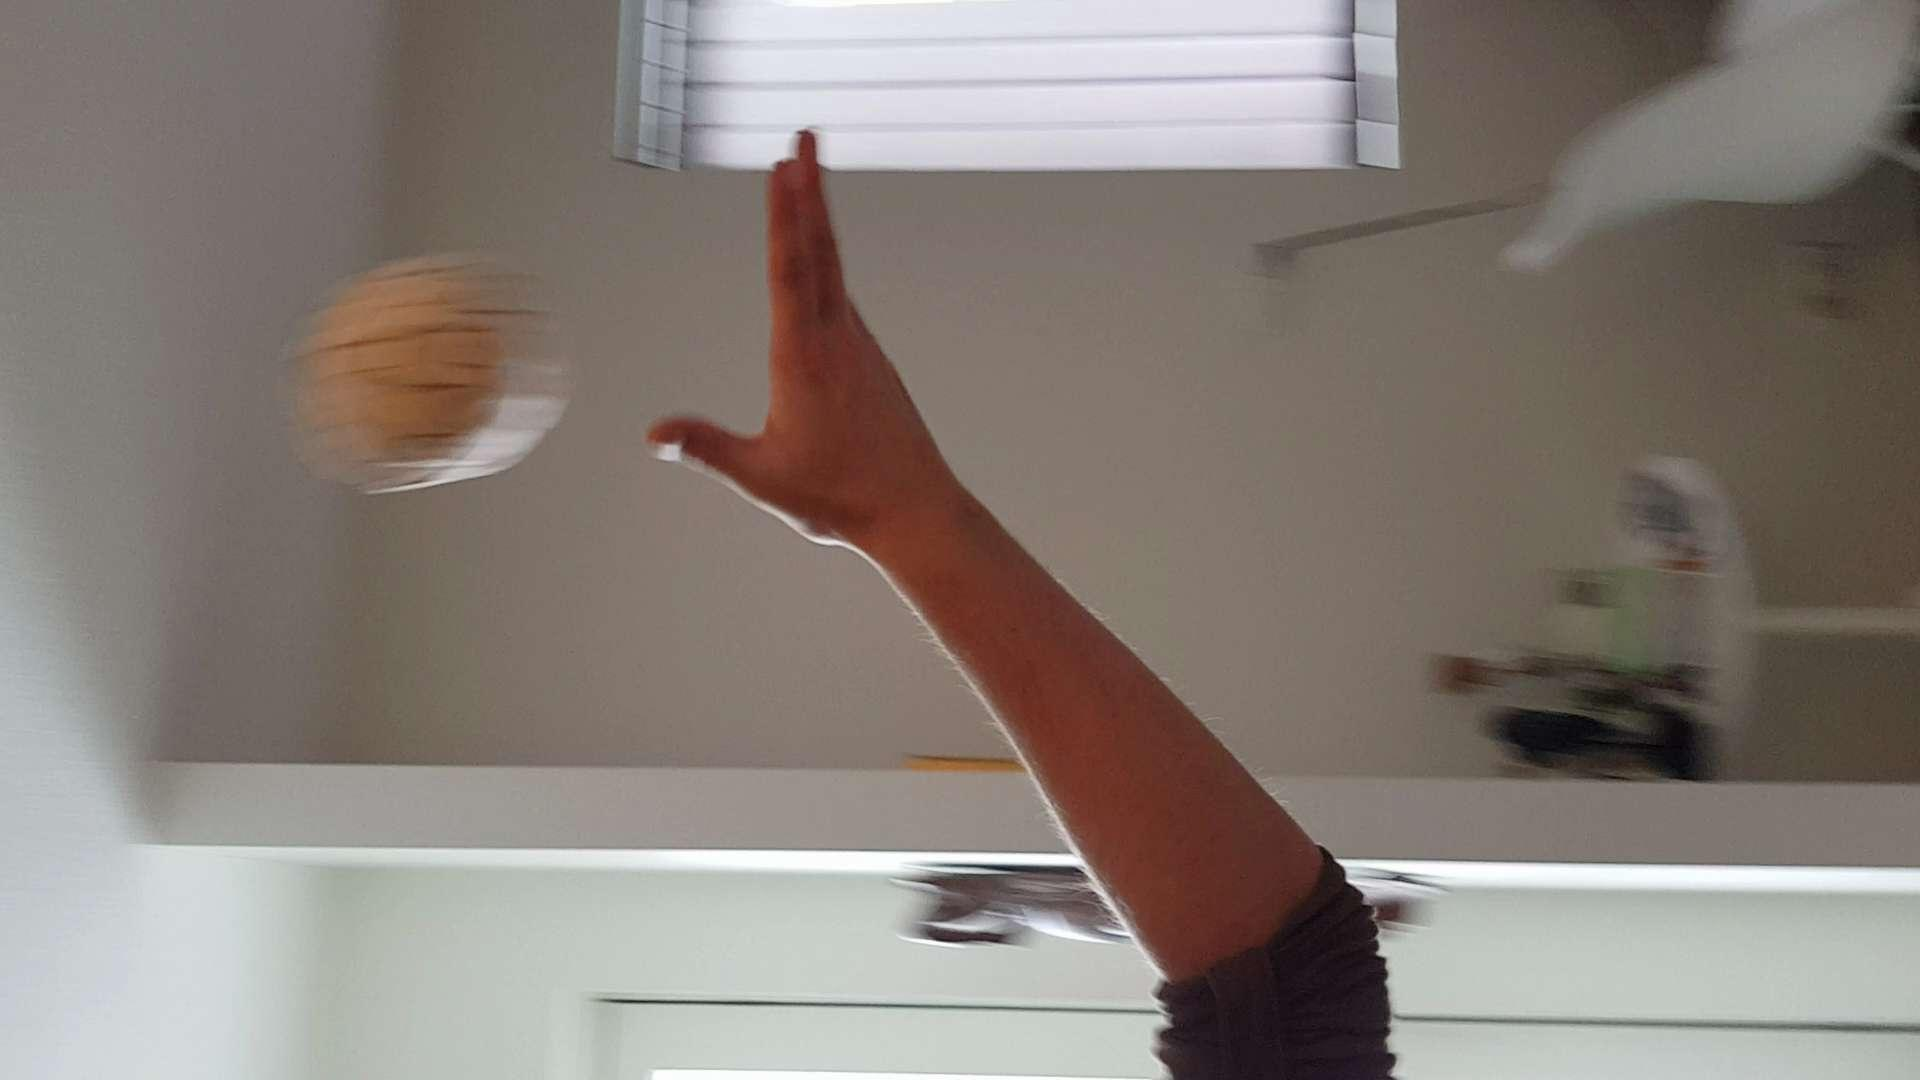Sphere: (280, 245, 584, 498)
